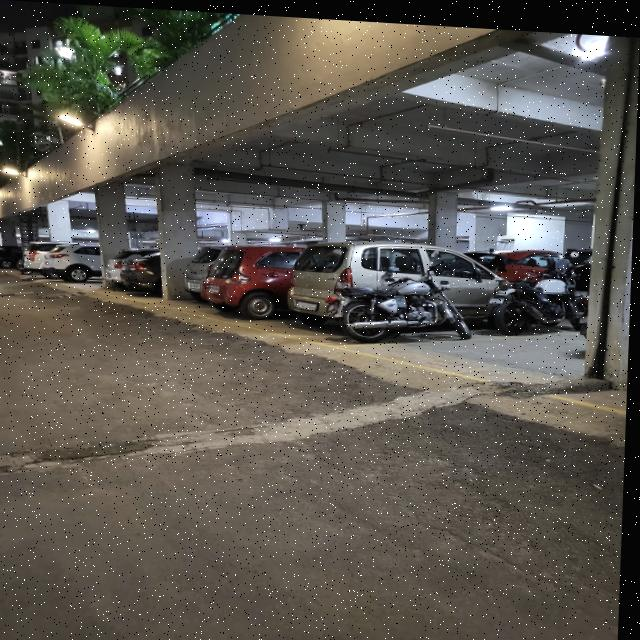bike: (338, 249, 474, 342), (487, 254, 583, 330)
car: (292, 234, 518, 327), (205, 239, 306, 319), (42, 235, 106, 287)
